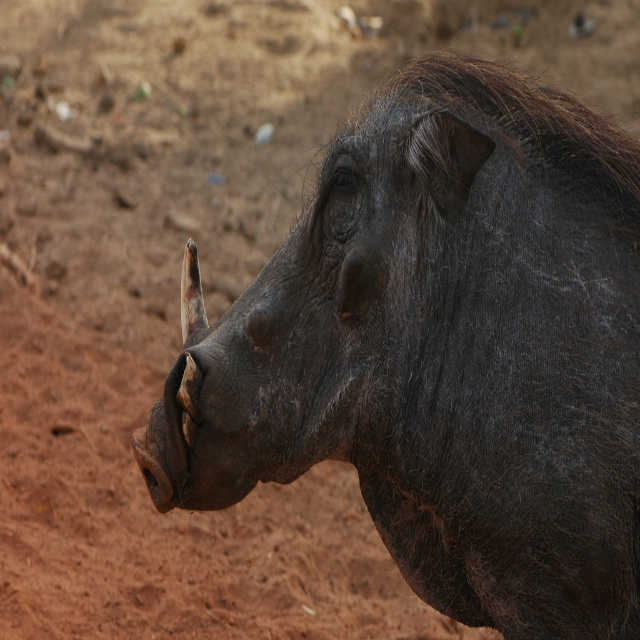Pig: (132, 40, 640, 640)
